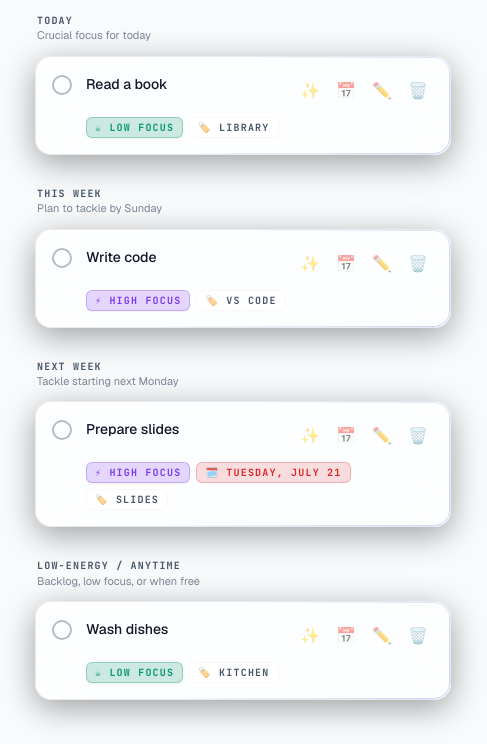
Test: TaskList Component Tests › allows deleting a task and sends delete request to server
Click the button named "Delete task" at (418, 91), box [402,73,434,109]
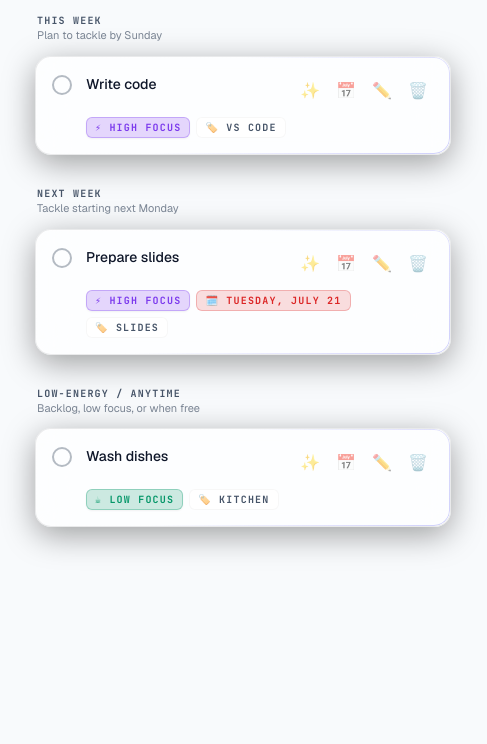
Check: the text "Read a book" is gone
